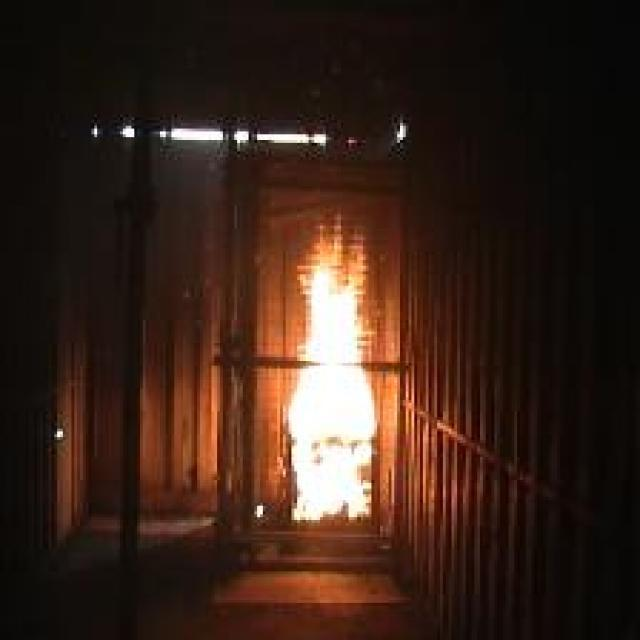Fire: (290, 217, 376, 523)
